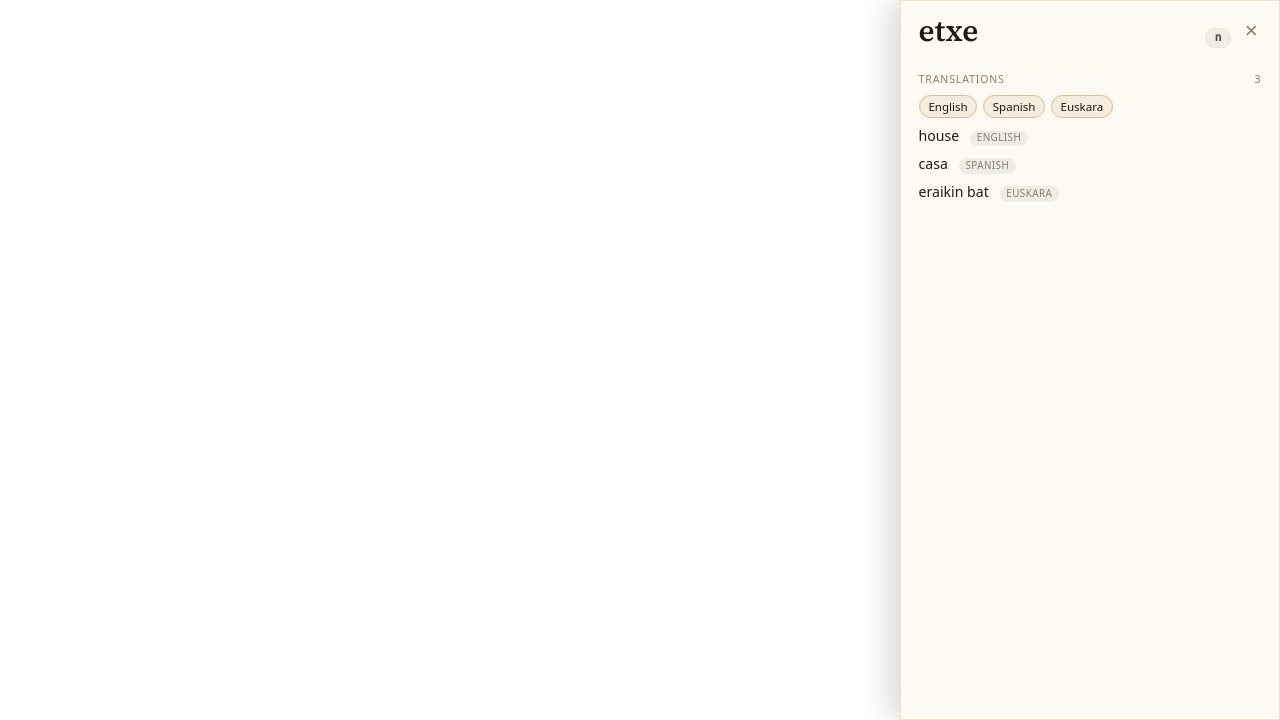
Test: WordPopup — definition-language filter (Basque dictionary) › hides a language when its chip is toggled off
The image size is (1280, 720).
Expected: the list item with class "official-row" showing "house English" is shown, left=919, top=126, right=1028, bottom=146
Click the button with test id "def-lang-chip-es" at (1014, 107), box left=983, top=95, right=1045, bottom=118
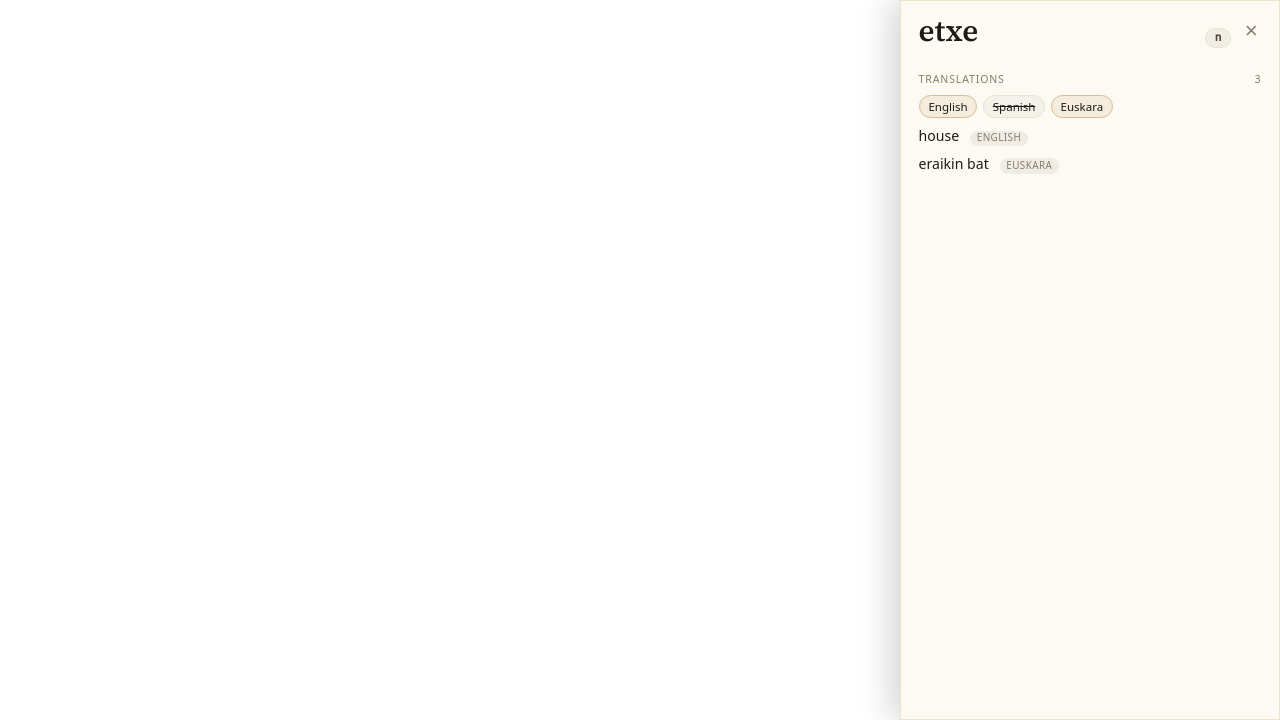
Expected: the list with class "translations" shows "house", left=919, top=126, right=959, bottom=146
Now the element with class "translations" no longer shows "casa"
